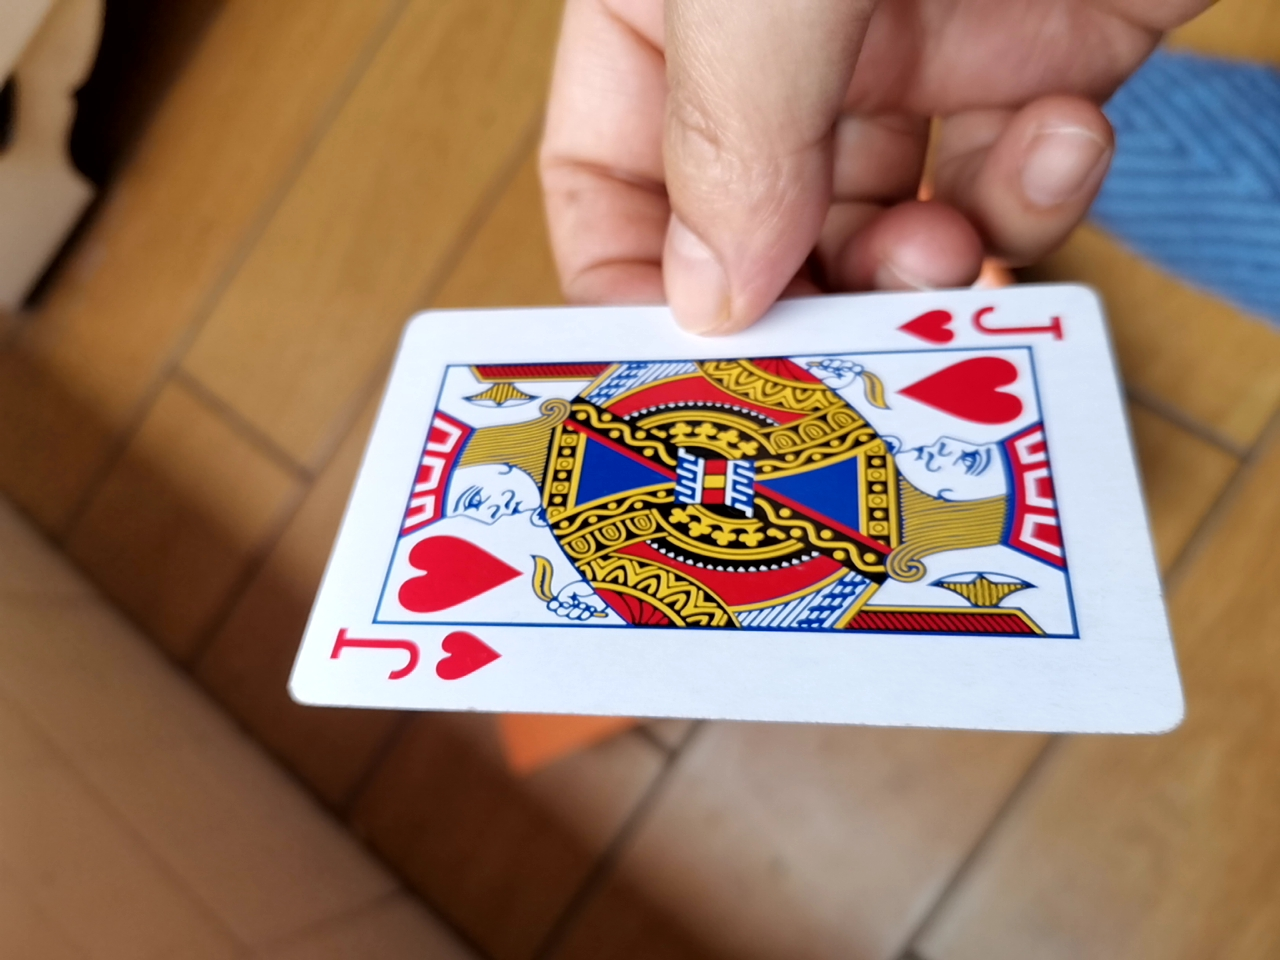hx j: (285, 279, 1178, 734)
